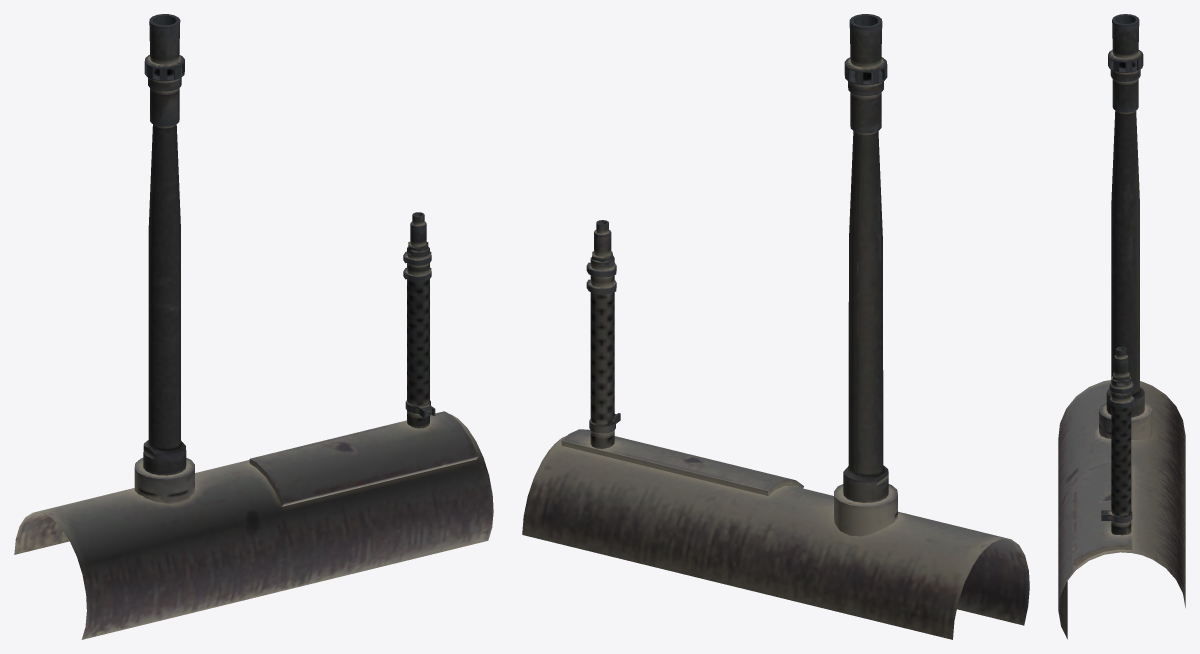
Rendered from Gun_01.glb.
3 views of the same model, side by side, from view 1: azimuth 30°, elevation 25°; view 2: azimuth 150°, elevation 25°; view 3: azimuth 270°, elevation 25° (orthographic). The views are drawn at different scales.
Visible parts, largest first — view 1: set_0_group_0; view 2: set_0_group_0; view 3: set_0_group_0.
Part boxes in pixels (box(x1,y1,x2,y2)): set_0_group_0: box(14, 14, 493, 639); set_0_group_0: box(522, 14, 1029, 639); set_0_group_0: box(1058, 14, 1185, 639).
Bounding box in the file's own units: 0.7826 × 1.04 × 0.2419.
1 material, 1 textured.
